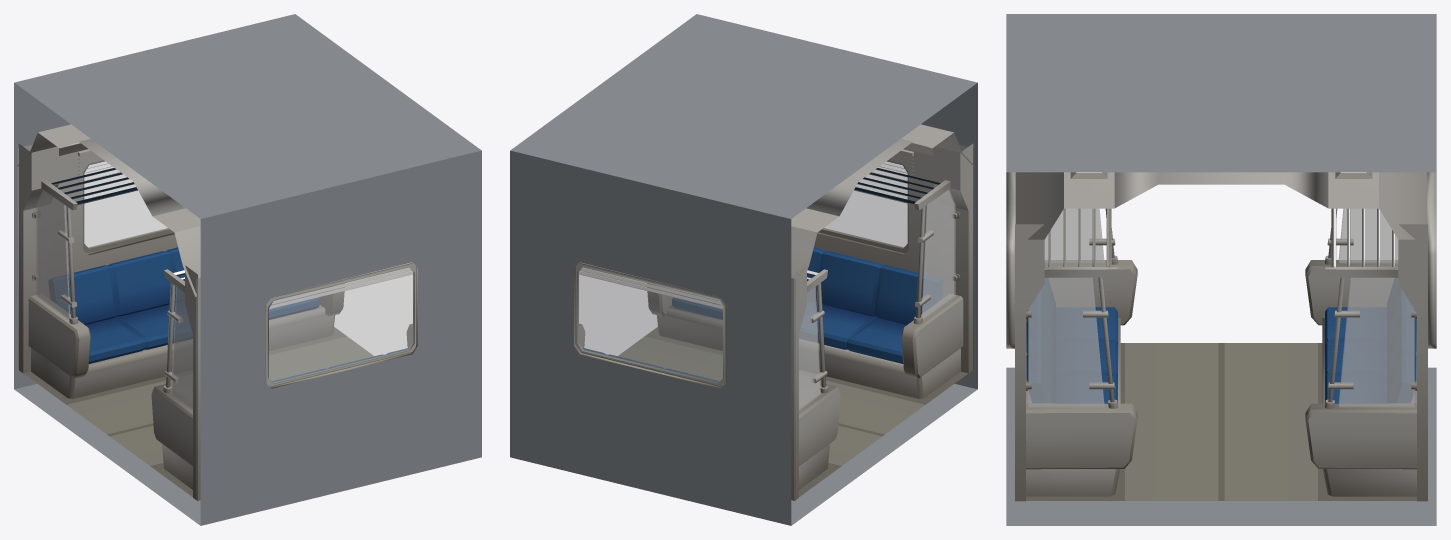
3 renders of one model, left to right at view 1: azimuth 30°, elevation 25°; view 2: azimuth 150°, elevation 25°; view 3: azimuth 270°, elevation 25°, orthographic. The views are drawn at different scales.
Visible parts, largest first — view 1: Plane.005, Plane.003, Plane, Cube.007, Cube, Plane.001, Cube.001, Cube.006, Cube.002, Plane.004, Cube.004, Plane.002 (+3 smaller); view 2: Plane.005, Plane.003, Plane, Cube.007, Cube, Plane.001, Cube.001, Cube.006, Cube.002, Plane.004, Cube.004, Plane.002 (+3 smaller); view 3: Plane.005, Plane, Cube.002, Cube.001, Plane.004, Cube.004, Cube, Cube.006, Cube.007, Cube.005, Plane.001, Cube.003.
Boxes of the visible parts, bbox=[...] form: Plane.005: bbox=[14, 14, 481, 525]; Plane.003: bbox=[84, 161, 415, 386]; Plane: bbox=[24, 327, 373, 500]; Cube.007: bbox=[31, 305, 335, 489]; Cube: bbox=[18, 143, 197, 500]; Plane.001: bbox=[18, 144, 417, 500]; Cube.001: bbox=[28, 283, 412, 465]; Cube.006: bbox=[48, 247, 408, 382]; Cube.002: bbox=[36, 189, 192, 410]; Plane.004: bbox=[17, 124, 200, 296]; Cube.004: bbox=[85, 291, 319, 363]; Plane.002: bbox=[83, 160, 416, 387]; Plane.005: bbox=[510, 14, 977, 525]; Plane.003: bbox=[576, 161, 907, 386]; Plane: bbox=[618, 327, 967, 500]; Cube.007: bbox=[656, 305, 960, 489]; Cube: bbox=[794, 143, 973, 500]; Plane.001: bbox=[574, 144, 973, 500]; Cube.001: bbox=[579, 283, 963, 465]; Cube.006: bbox=[583, 247, 943, 382]; Cube.002: bbox=[799, 189, 955, 410]; Plane.004: bbox=[791, 124, 974, 296]; Cube.004: bbox=[672, 291, 906, 363]; Plane.002: bbox=[575, 160, 908, 387]; Plane.005: bbox=[1006, 14, 1436, 525]; Plane: bbox=[1026, 343, 1416, 500]; Cube.002: bbox=[1028, 208, 1414, 407]; Cube.001: bbox=[1026, 260, 1416, 469]; Plane.004: bbox=[1015, 172, 1427, 239]; Cube.004: bbox=[1055, 307, 1387, 403]; Cube: bbox=[1015, 224, 1427, 501]; Cube.006: bbox=[1026, 266, 1416, 402]; Cube.007: bbox=[1026, 318, 1416, 496]; Cube.005: bbox=[1026, 208, 1416, 408]; Plane.001: bbox=[1006, 172, 1436, 348]; Cube.003: bbox=[1048, 208, 1394, 267].
Size of the model in its own units: 5.25 by 5.98 by 5.43.
3 materials, 1 textured.
